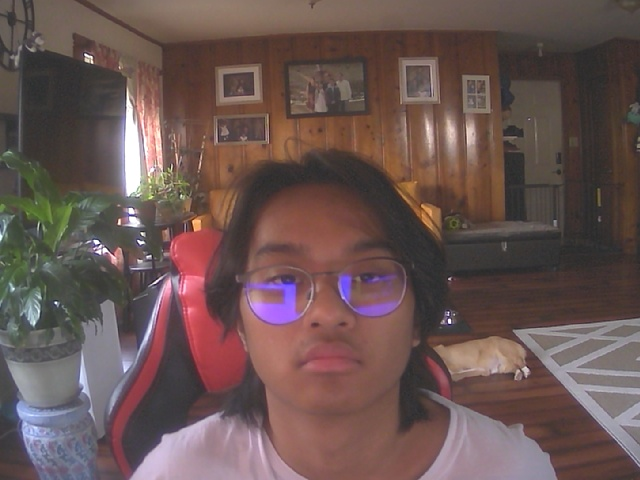neutral: (233, 166, 435, 418)
